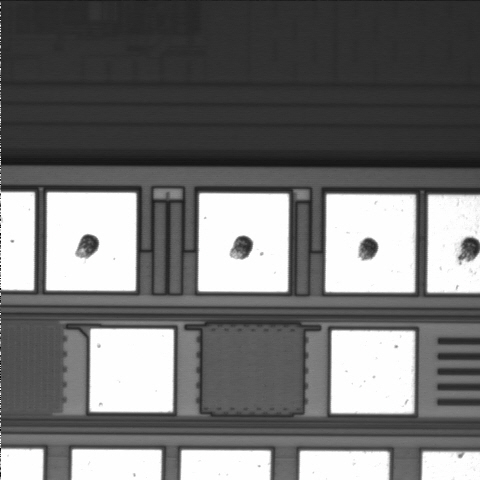pad: (198, 193, 289, 292), (46, 192, 136, 291), (325, 194, 415, 292), (331, 330, 415, 414), (90, 329, 174, 412)
